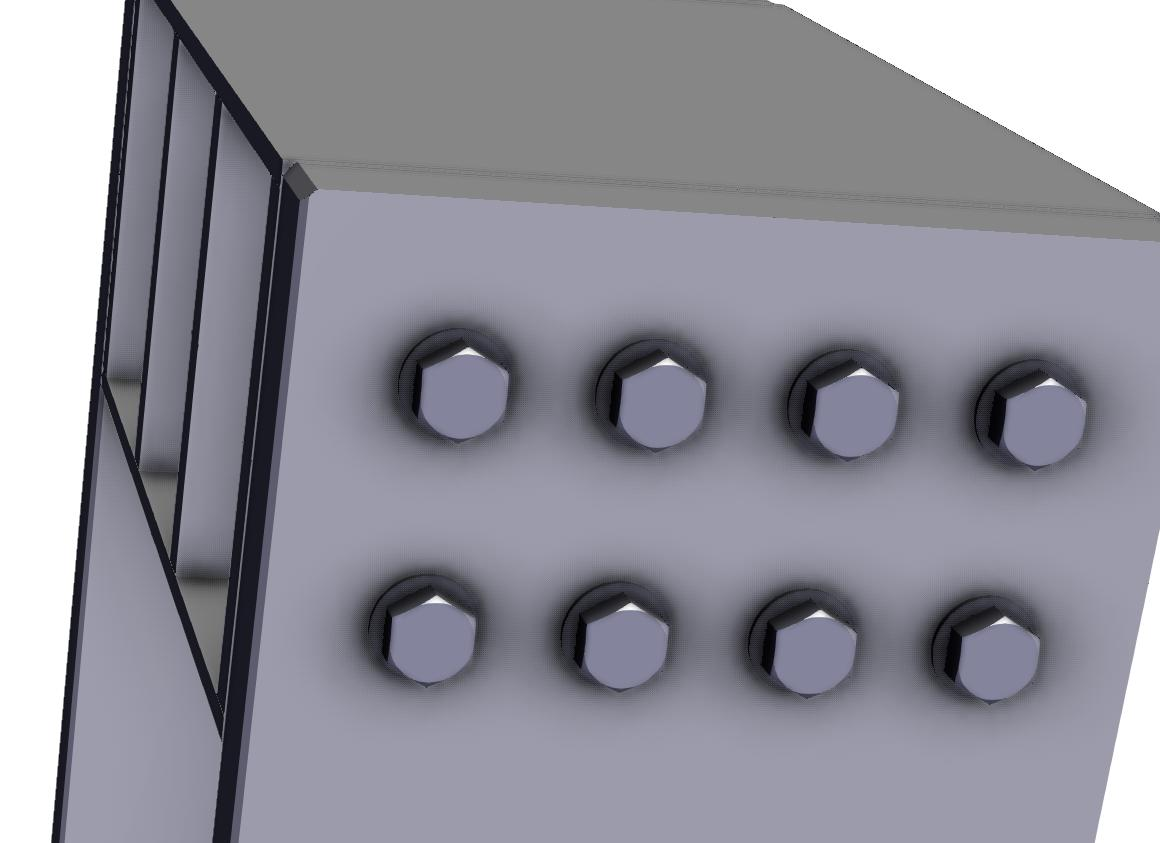bolt_a: (410, 340, 512, 446), (607, 348, 709, 454), (377, 584, 480, 688), (985, 370, 1088, 473), (802, 356, 900, 463), (761, 599, 860, 702), (571, 591, 669, 694), (941, 609, 1041, 707)
